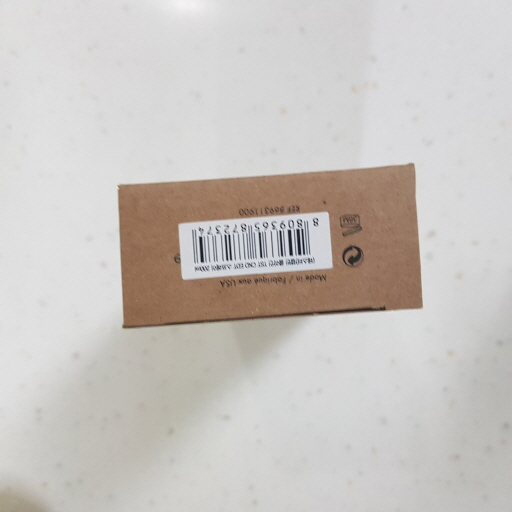Paper_0: (110, 162, 445, 336)
